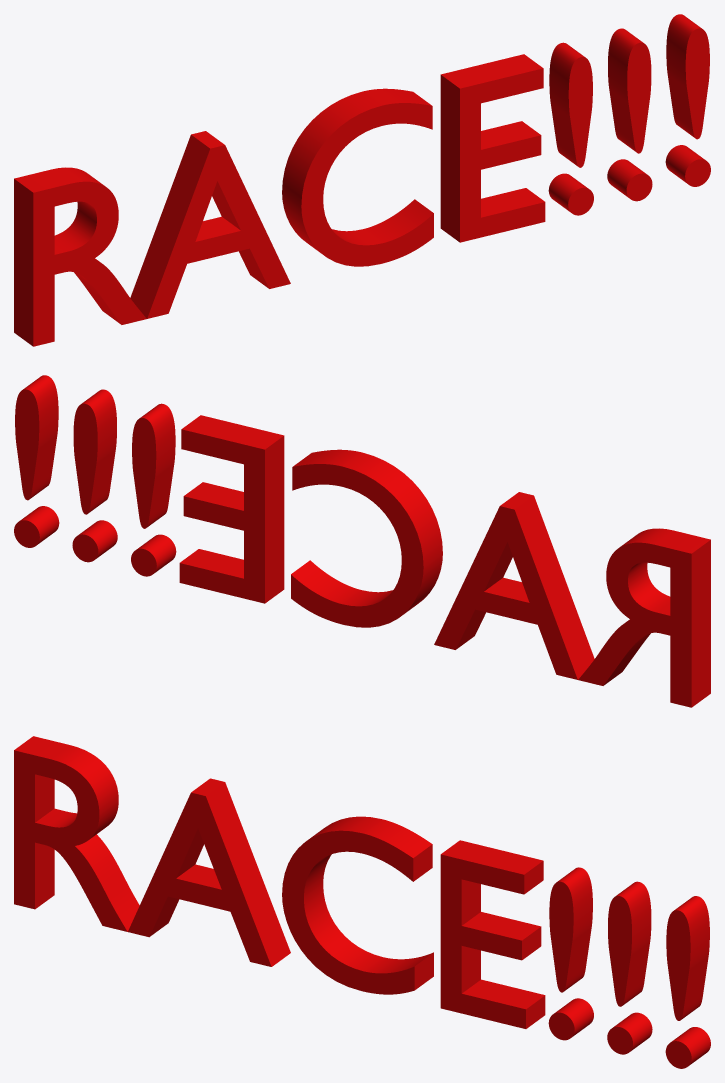
File: Race.fbx
3 views of the same model, one above another, from view 1: azimuth 30°, elevation 25°; view 2: azimuth 150°, elevation 25°; view 3: azimuth 330°, elevation 25° (orthographic).
Parts seen in each view (by area): view 1: Text; view 2: Text; view 3: Text.
Boxes of the visible parts, x1=… form: Text: x1=14, y1=14, x2=710, y2=346; Text: x1=14, y1=375, x2=710, y2=707; Text: x1=14, y1=736, x2=710, y2=1068.
Bounding box in the file's own units: 314 × 70 × 15.54.
